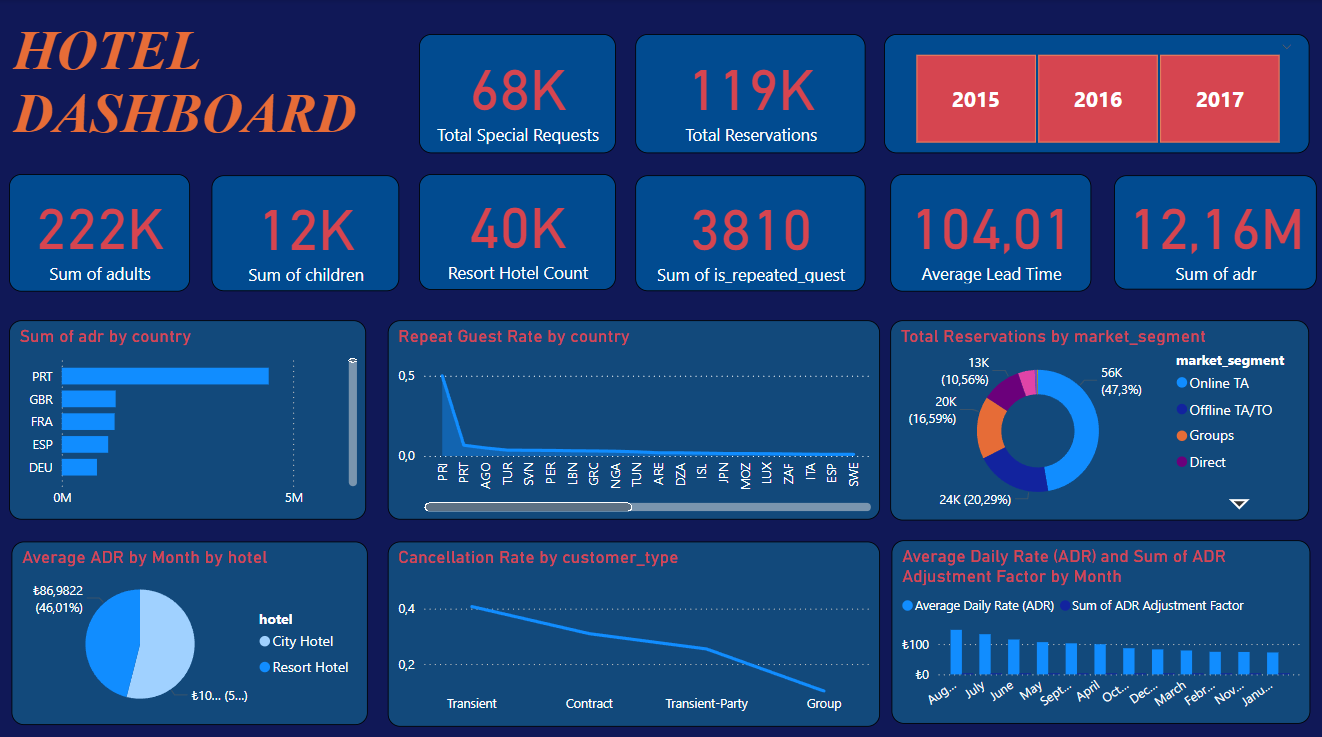

The page's visual inventory and layout, read from the dashboard file:
{"tool":"powerbi","page":{"name":"Page 1","canvas":[1280,720],"ordinal":0},"visuals":[{"type":"card","fields":{"Values":["Dax.Total Reservations"]},"box":[609.7,33.8,221.1,114.1],"z":0},{"type":"card","fields":{"Values":["Dax.Resort Hotel Count"]},"box":[402.7,167.6,188.7,111.2],"z":1000},{"type":"card","fields":{"Values":["Dax.Total Special Requests"]},"box":[402.7,33.8,188.7,114.1],"z":2000},{"type":"card","fields":{"Values":["Sum(hotel_bookings.adults)"]},"box":[9.9,167.6,173.2,112.7],"z":3000},{"type":"card","fields":{"Values":["Sum(hotel_bookings.children)"]},"box":[204.2,169,180.2,111.2],"z":4000},{"type":"card","fields":{"Values":["Sum(hotel_bookings.adr)"]},"box":[1068.8,169,194.3,109.8],"z":5000},{"type":"clusteredBarChart","fields":{"Category":["hotel_bookings.country"],"Y":["Sum(hotel_bookings.adr)"]},"box":[9.9,308.4,342.2,191.5],"z":6000},{"type":"card","fields":{"Values":["Dax.Average Lead Time"]},"box":[854.7,167.6,192.9,112.7],"z":7000},{"type":"donutChart","fields":{"Category":["hotel_bookings.market_segment"],"Y":["Dax.Total Reservations"]},"box":[854.9,307.6,401.9,191.7],"z":8000},{"type":"pieChart","fields":{"Category":["hotel_bookings.hotel"],"Y":["Dax.Average ADR by Month"]},"box":[11.4,520.2,341.3,176.4],"z":9000},{"type":"card","fields":{"Values":["Sum(hotel_bookings.is_repeated_guest)"]},"box":[609.7,169,221.1,111.2],"z":10000},{"type":"areaChart","fields":{"Y":["Dax.Repeat Guest Rate"],"Category":["hotel_bookings.country"]},"box":[373.2,308.4,471.7,191.5],"z":11000},{"type":"lineChart","fields":{"Category":["hotel_bookings.customer_type"],"Y":["Dax.Cancellation Rate"]},"box":[373.2,519.6,471.7,177.4],"z":12000},{"type":"slicer","fields":{"Values":["Calendar.Year"]},"box":[849.1,33.8,408.4,114.1],"z":13000},{"type":"textbox","box":[8.4,14.1,391.5,133.8],"z":14000},{"type":"clusteredColumnChart","fields":{"Category":["Calendar.Month"],"Y":["Dax.Average Daily Rate (ADR)","Sum(ADR Adjustment Factor.ADR Adjustment Factor)"]},"box":[855.8,518.9,401.6,176],"z":15001}]}

Visuals, with their boxes in screenshot pixels (x1, y1, x2, y2), scaled from the page's 1280x720 canvas onto the 1322x737 screenshot:
card - Dax.Total Reservations: region(630, 35, 858, 151)
card - Dax.Resort Hotel Count: region(416, 172, 611, 285)
card - Dax.Total Special Requests: region(416, 35, 611, 151)
card - Sum(hotel_bookings.adults): region(10, 172, 189, 287)
card - Sum(hotel_bookings.children): region(211, 173, 397, 287)
card - Sum(hotel_bookings.adr): region(1104, 173, 1305, 285)
clusteredBarChart - hotel_bookings.country x Sum(hotel_bookings.adr): region(10, 316, 364, 512)
card - Dax.Average Lead Time: region(883, 172, 1082, 287)
donutChart - hotel_bookings.market_segment x Dax.Total Reservations: region(883, 315, 1298, 511)
pieChart - hotel_bookings.hotel x Dax.Average ADR by Month: region(12, 532, 364, 713)
card - Sum(hotel_bookings.is_repeated_guest): region(630, 173, 858, 287)
areaChart - Dax.Repeat Guest Rate x hotel_bookings.country: region(385, 316, 873, 512)
lineChart - hotel_bookings.customer_type x Dax.Cancellation Rate: region(385, 532, 873, 713)
slicer - Calendar.Year: region(877, 35, 1299, 151)
textbox: region(9, 14, 413, 151)
clusteredColumnChart - Calendar.Month x Dax.Average Daily Rate (ADR): region(884, 531, 1299, 711)
